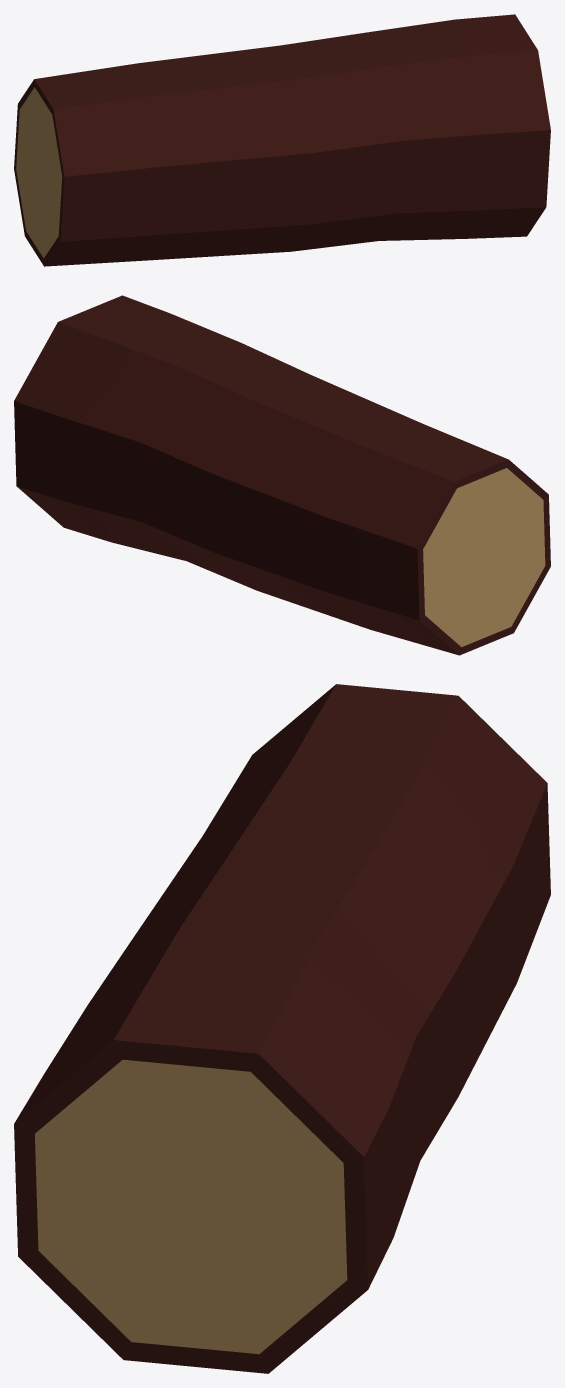
Rendered from SM_Campfire_02_Log_004.fbx.
3 renders of one model, top to bottom at view 1: azimuth 30°, elevation 25°; view 2: azimuth 150°, elevation 25°; view 3: azimuth 270°, elevation 25°, orthographic. The views are drawn at different scales.
Parts seen in each view (by area): view 1: CampfireLog_004; view 2: CampfireLog_004; view 3: CampfireLog_004.
Part boxes in pixels (x1,y1,x2,y2): CampfireLog_004: (14, 14, 550, 266); CampfireLog_004: (14, 295, 550, 655); CampfireLog_004: (14, 684, 550, 1373).
Size of the model in its own units: 29.23 by 11.36 by 16.61.
